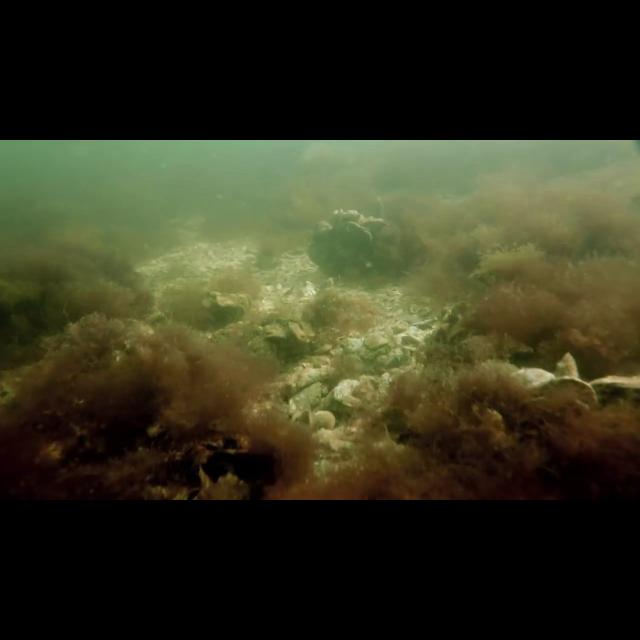Oyster-Closed: (531, 377, 599, 406), (335, 222, 376, 254), (553, 348, 583, 381), (589, 375, 638, 392), (359, 215, 388, 234), (330, 205, 366, 220)
